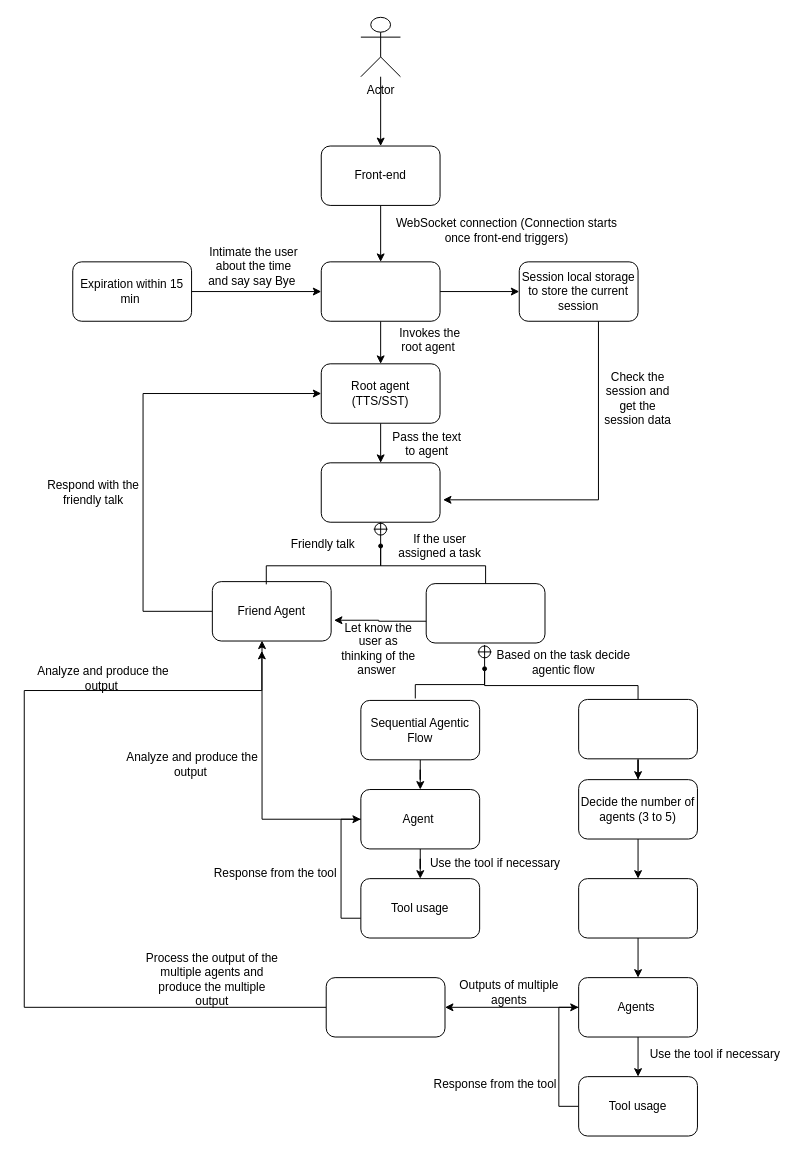
The diagram is 802 pixels wide and 1153 high, and some of its shapes have lost their labels. Here are the shapes that lost their labels. From the top down, the centre of each, then its label:
At [380,291]: "Backend".
At [380,492]: "Checker Agent".
At [485,613]: "Planner Agent".
At [637,728]: "Parallel Agentic Flow".
At [637,908]: "Task separation and allocation to agents".
At [385,1007]: "Processing Agent".
